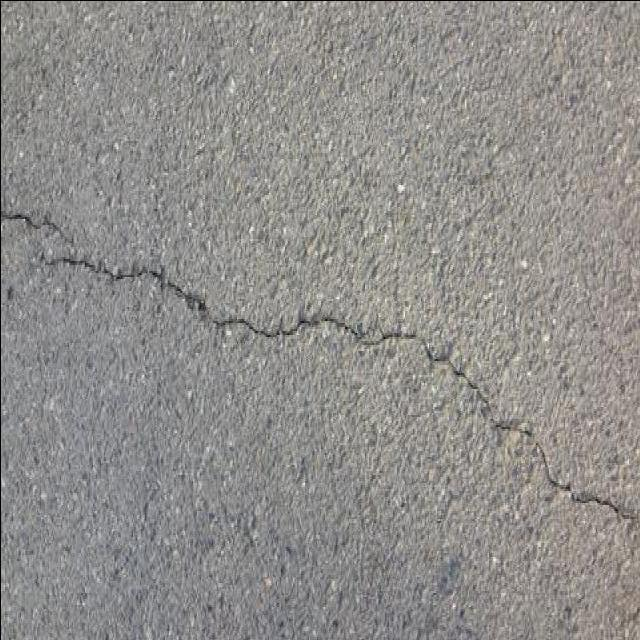Crack: (2, 208, 639, 525)
